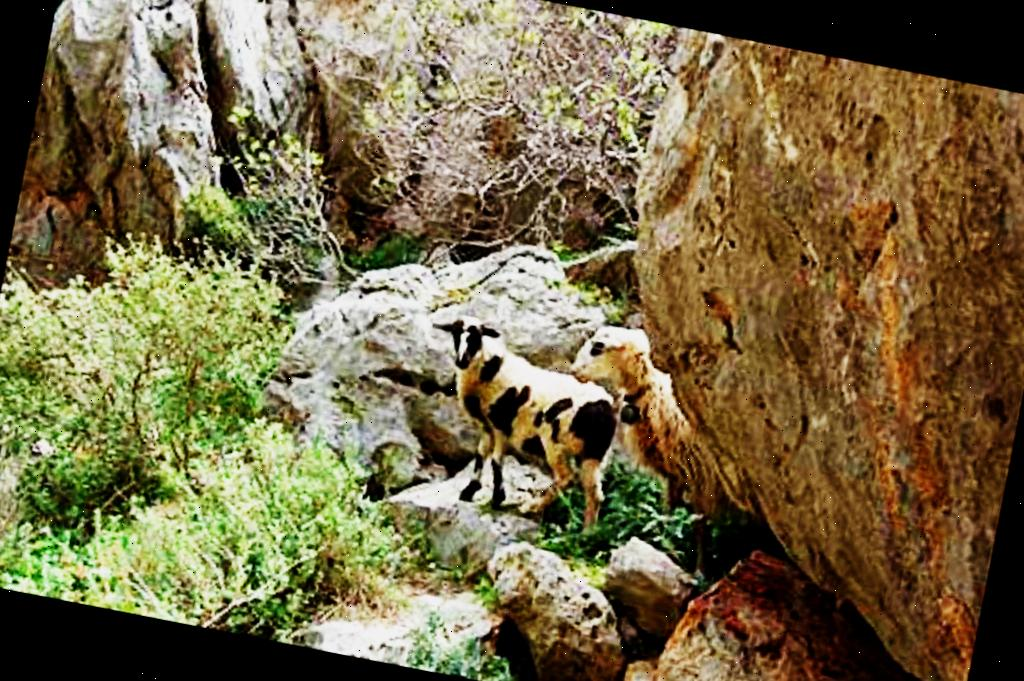Sheep: (382, 306, 634, 554), (526, 302, 708, 560)
